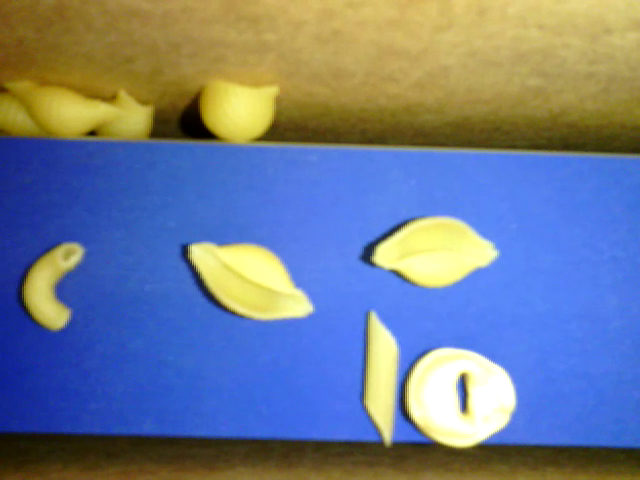elbow: (21, 240, 84, 331)
penne: (361, 307, 399, 448)
shell: (187, 236, 313, 326), (369, 213, 497, 290), (1, 75, 126, 136), (200, 71, 279, 143), (85, 89, 153, 140), (1, 92, 56, 136)
tortellini: (399, 345, 515, 448)
